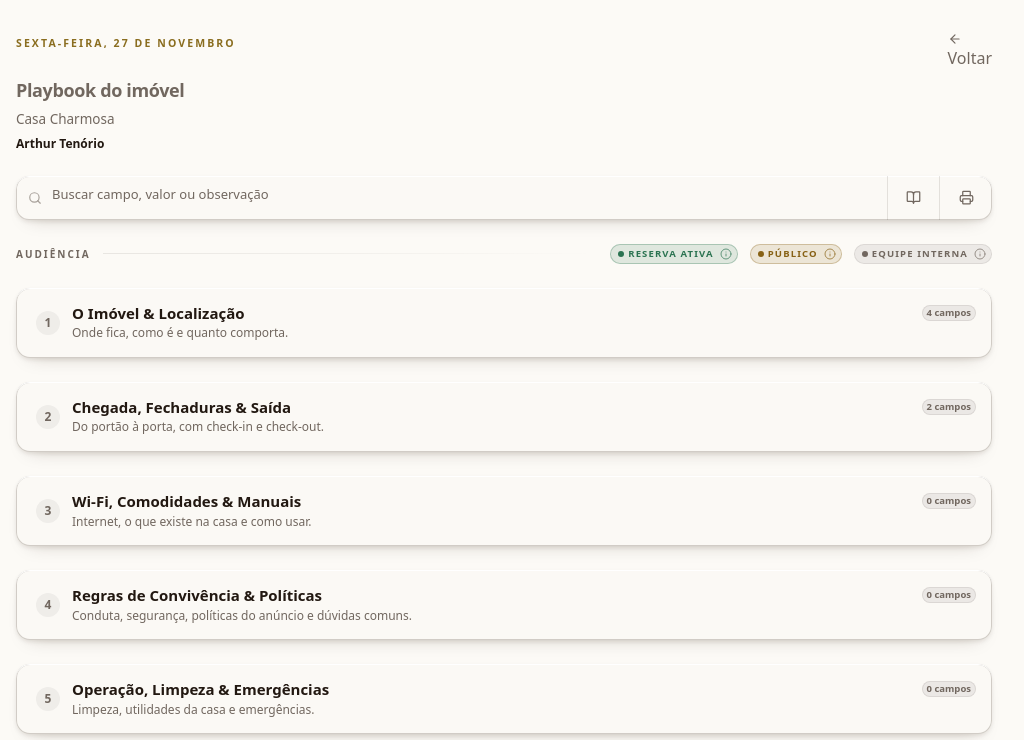
Scenario: PlaybookPage › mascara o código e a busca abre a seção com resultado
Expected: the text "Arthur Tenório" is shown, [16,136,104,152]
Type "portão" into the field with placeholder "Buscar campo, valor ou observação". click: (452, 194)
box: [16,176,887,212]
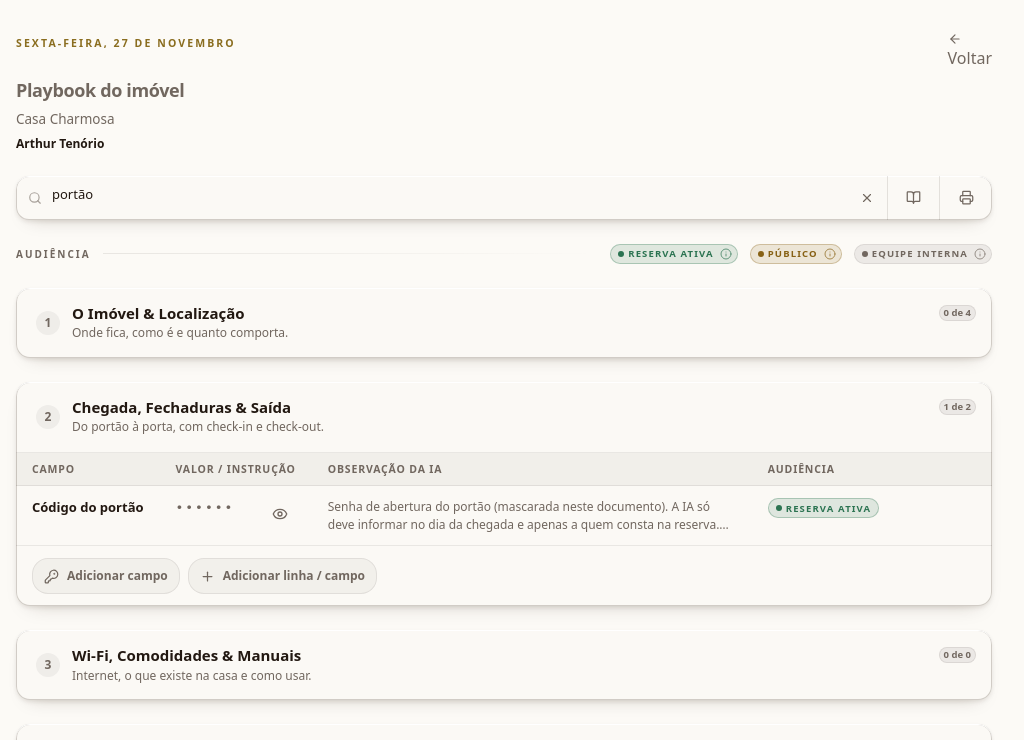
Expected: the text "Código do portão" is shown, [32,498,144,516]
Expected: the text "••••••" is shown, [176,500,234,515]
